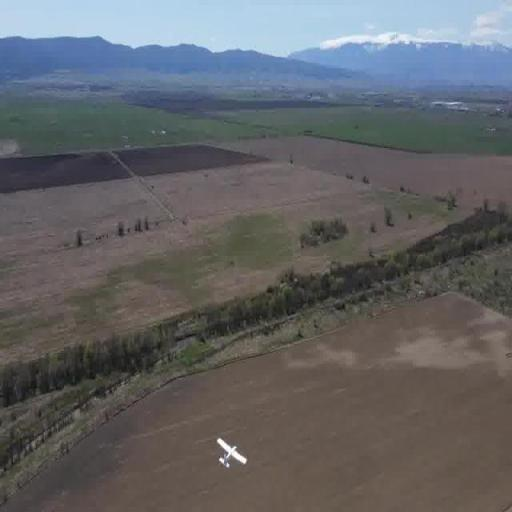uav: (214, 434, 251, 478)
